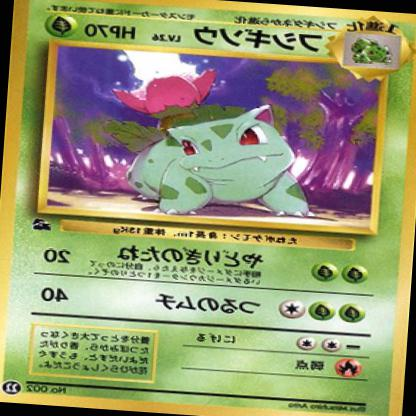Ivysaur: (103, 61, 321, 223)
